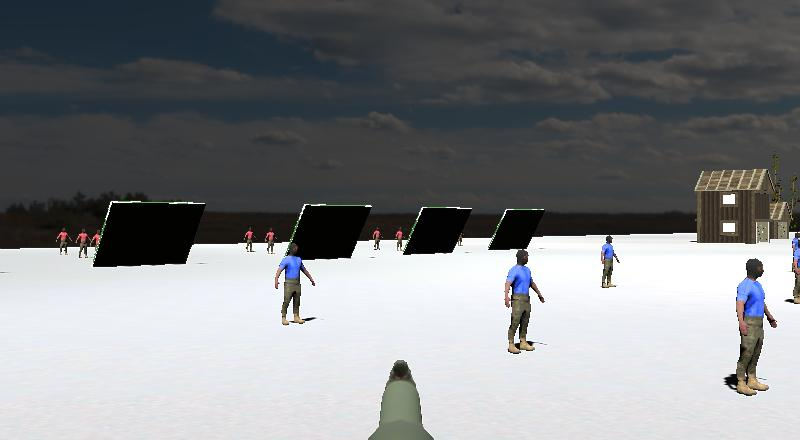House: (687, 159, 780, 258), (763, 192, 796, 247)
Human: (713, 242, 790, 406), (488, 240, 557, 366), (262, 237, 330, 337), (51, 220, 108, 266), (595, 229, 628, 296), (780, 218, 800, 312), (781, 218, 800, 313), (240, 221, 282, 259), (369, 223, 386, 255), (393, 222, 409, 256)
